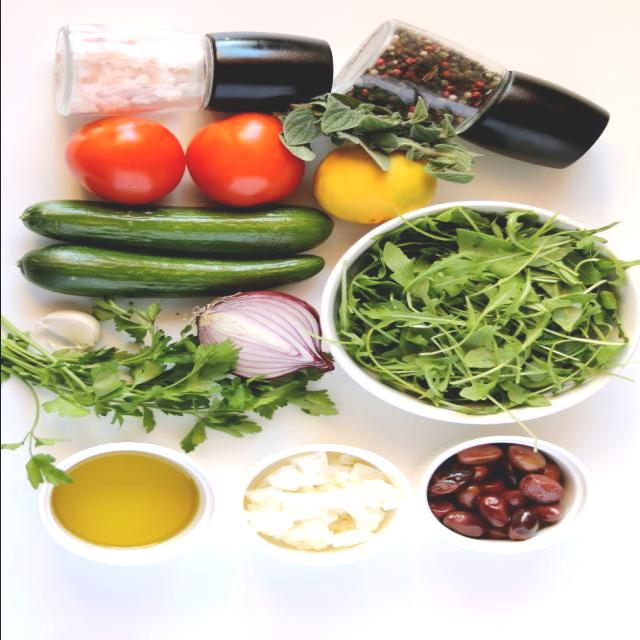cucumber: (17, 254, 319, 298), (23, 207, 325, 243)
onion: (198, 298, 328, 379)
tomato: (192, 111, 298, 208), (70, 114, 183, 204)
